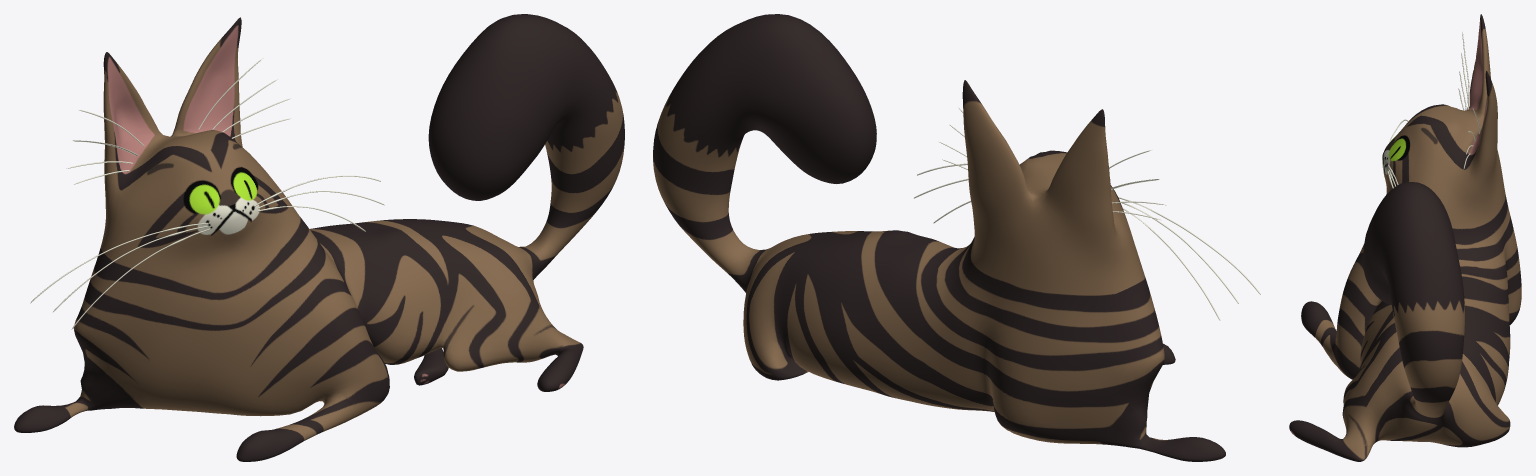
The model's file is MaineCoonCat.glb.
The picture shows the model from 3 angles, left to right: view 1: azimuth 30°, elevation 25°; view 2: azimuth 150°, elevation 25°; view 3: azimuth 270°, elevation 25°; orthographic projection. The views are drawn at different scales.
Visible parts, largest first — view 1: maine_coon_cat.1; view 2: maine_coon_cat.1; view 3: maine_coon_cat.1.
Boxes of the visible parts, box(x1,y1,x2,y2) form: maine_coon_cat.1: box(14, 14, 624, 461); maine_coon_cat.1: box(653, 14, 1260, 461); maine_coon_cat.1: box(1289, 14, 1521, 461).
Bounding box in the file's own units: 0.0399 × 0.0217 × 0.0159.
1 material, 1 textured.
